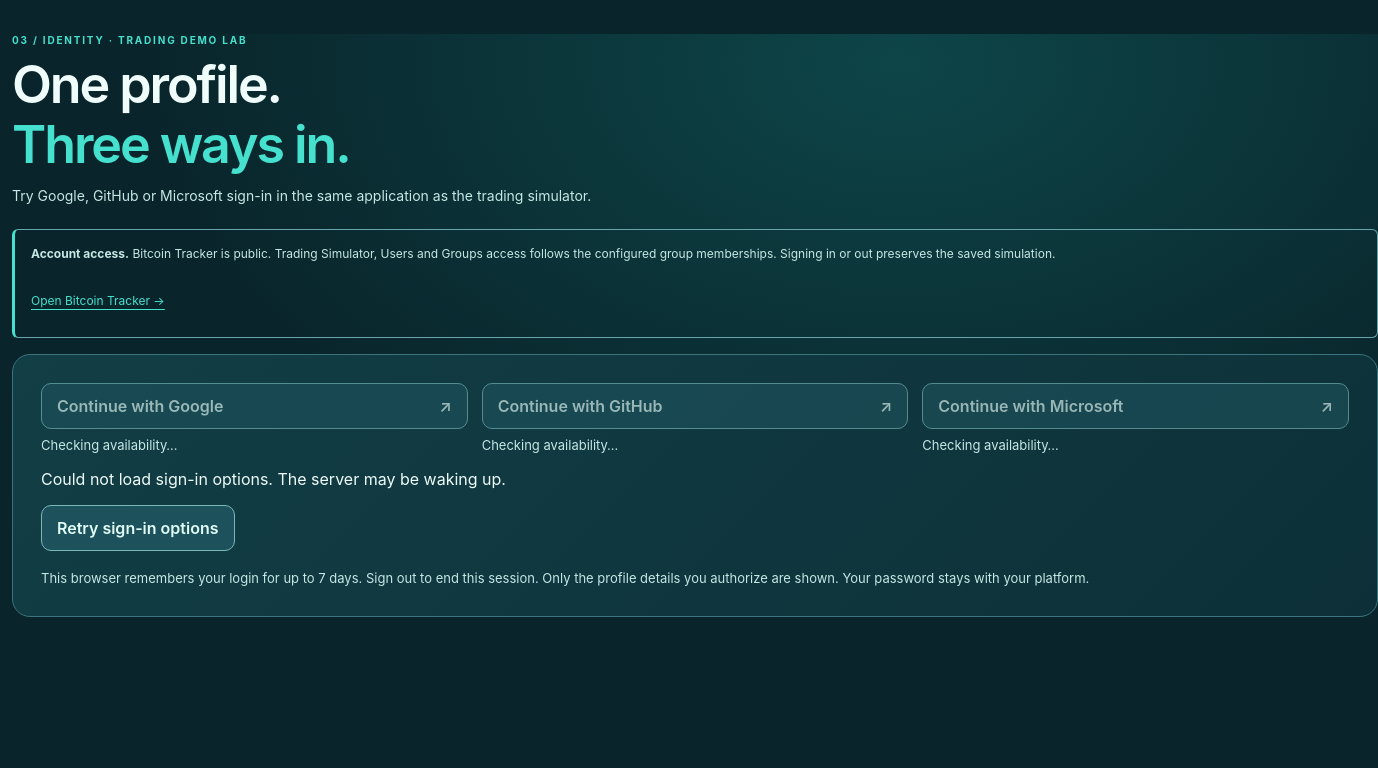
Scenario: login › retries failed availability requests
Click the button "Retry sign-in options" at [138, 528], box [41,505,234,551]
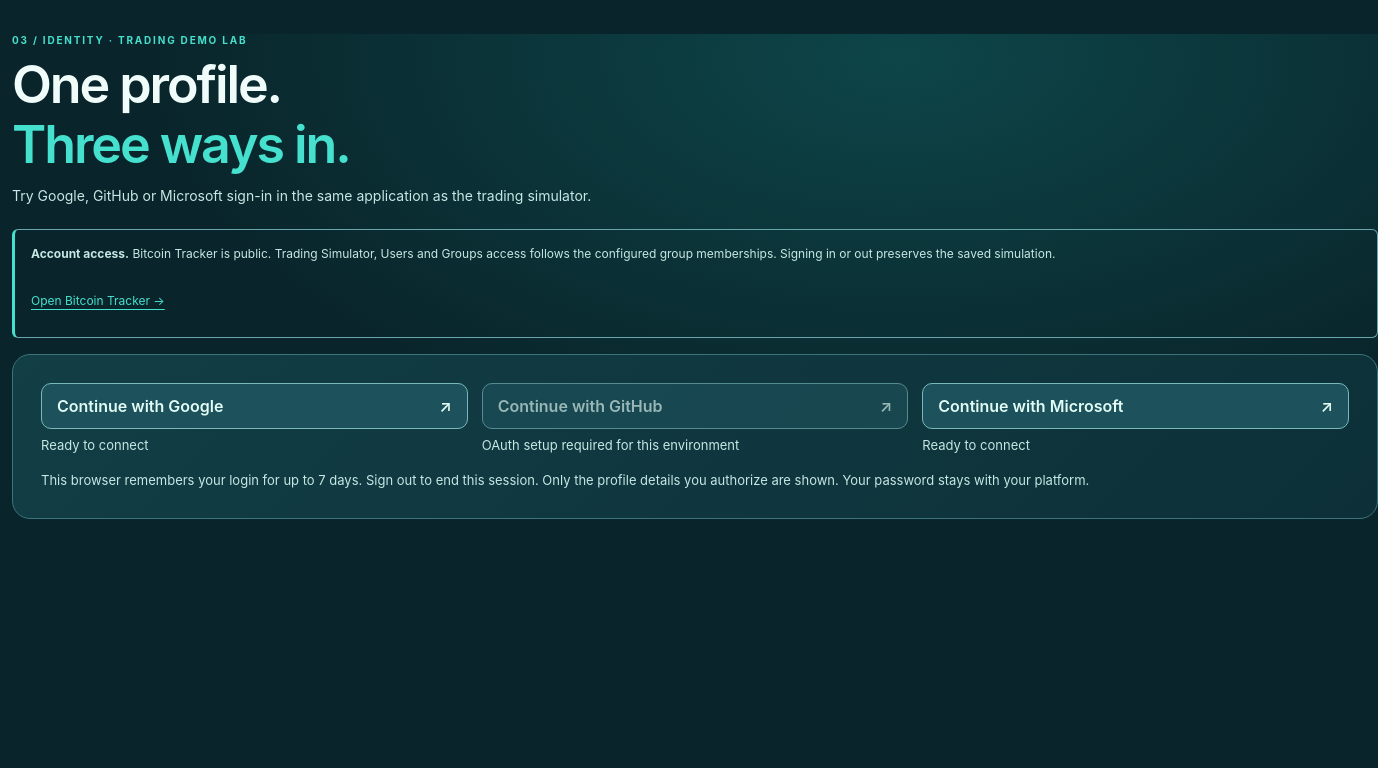
Expected: the button "Continue with Google ↗" is enabled, [41,383,468,429]
